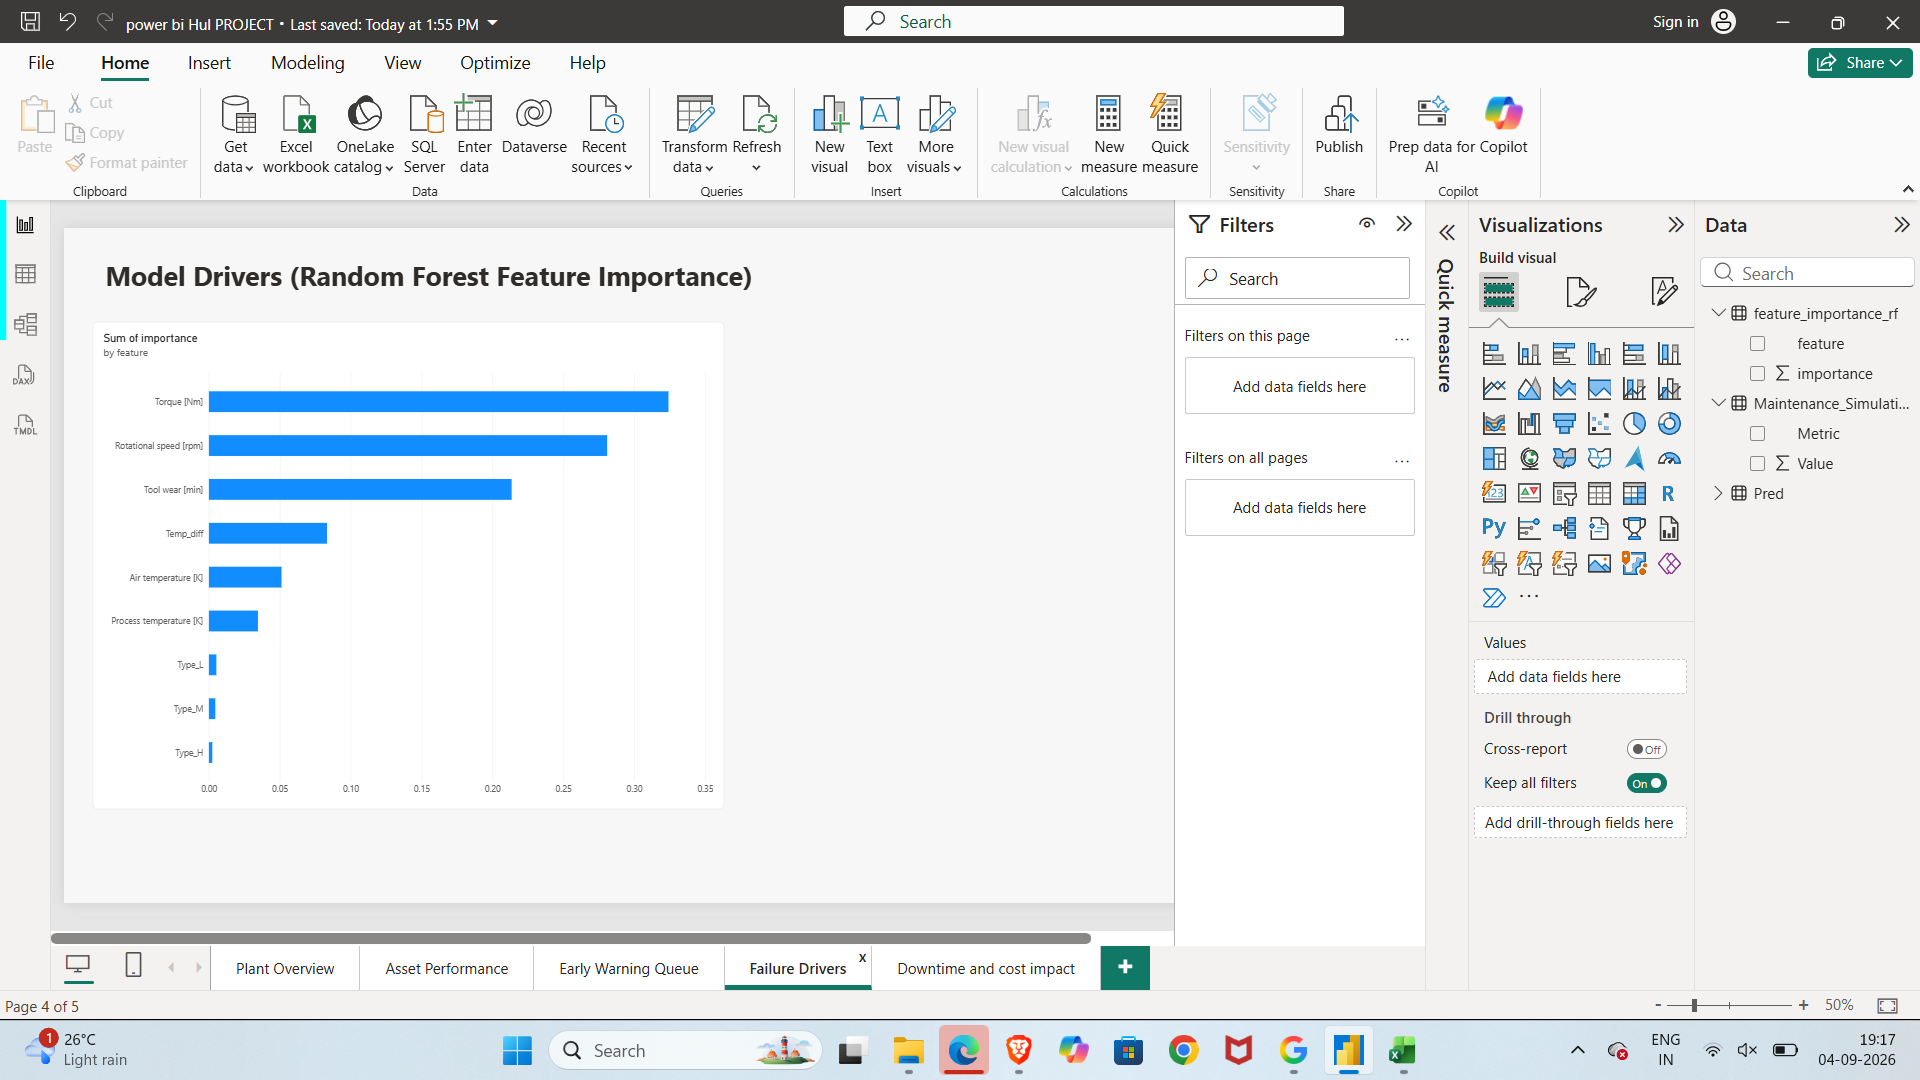

Layout of this report page (visuals, bound fields, positions):
{"tool":"powerbi","page":{"name":"Failure Drivers","canvas":[1920,1080],"ordinal":3},"visuals":[{"type":"clusteredBarChart","fields":{"Category":["feature_importance_rf.feature"],"Y":["Sum(feature_importance_rf.importance)"]},"box":[45.5,150.6,1010,780],"z":0},{"type":"textbox","box":[66,46,1062,104],"z":1000}]}

Visuals, with their boxes on the page's 1920x1080 design canvas (x1, y1, x2, y2). These are canvas units, not pixel positions in the 1920x1080 screenshot, which may show the page scaled, cropped or inside an application window:
clusteredBarChart - feature_importance_rf.feature x Sum(feature_importance_rf.importance): {"left": 46, "top": 151, "right": 1056, "bottom": 931}
textbox: {"left": 66, "top": 46, "right": 1128, "bottom": 150}
